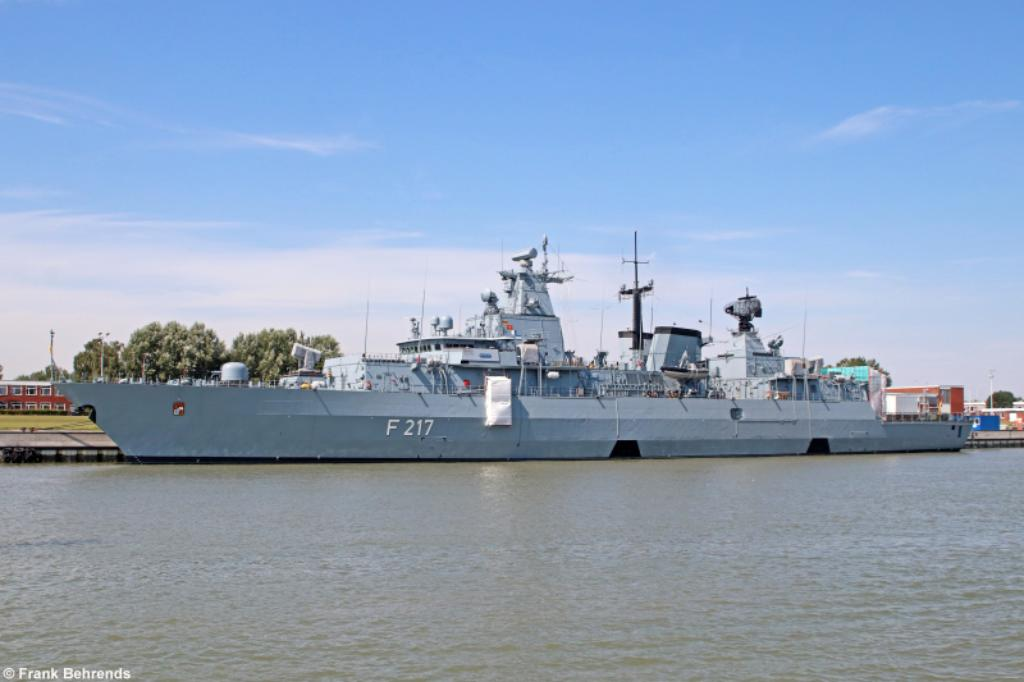Warship: (48, 222, 980, 467)
